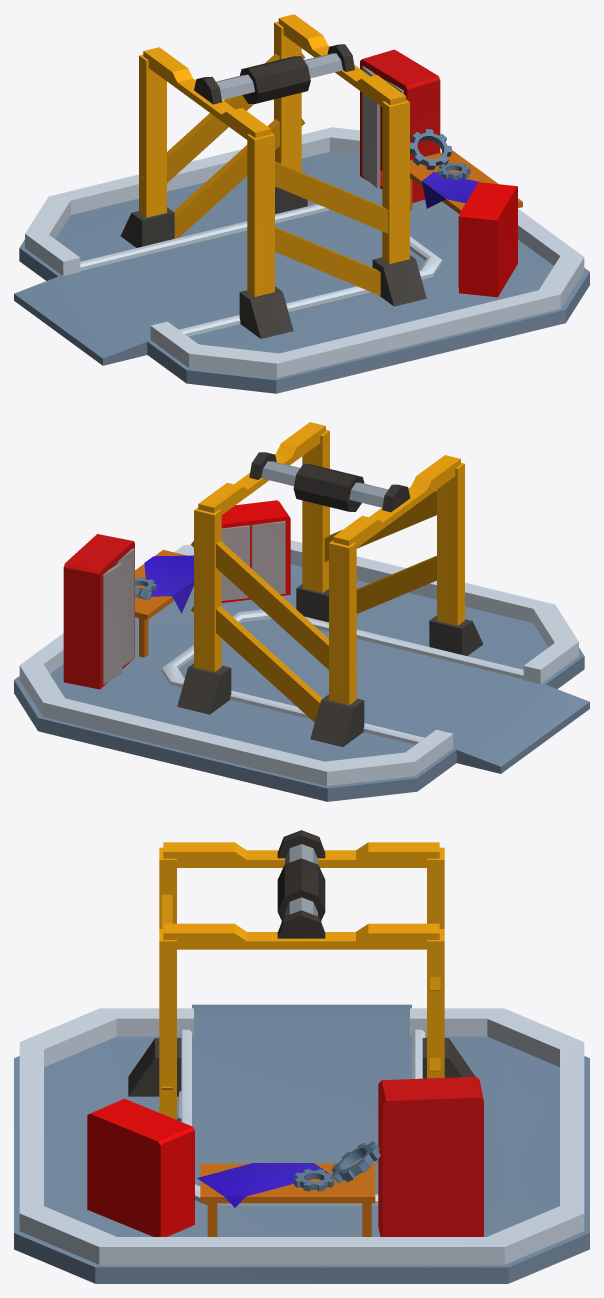
The model's file is base_upgrade.fbx.
3 renders of one model, top to bottom at view 1: azimuth 30°, elevation 25°; view 2: azimuth 150°, elevation 25°; view 3: azimuth 270°, elevation 25°, orthographic. The views are drawn at different scales.
Visible parts, largest first — view 1: base_upgrade; view 2: base_upgrade; view 3: base_upgrade.
Part boxes in pixels (x1,y1,x2,y2): base_upgrade: (14, 14, 589, 393); base_upgrade: (14, 422, 589, 801); base_upgrade: (14, 830, 589, 1283).
Bounding box in the file's own units: 1083 × 508 × 975.
